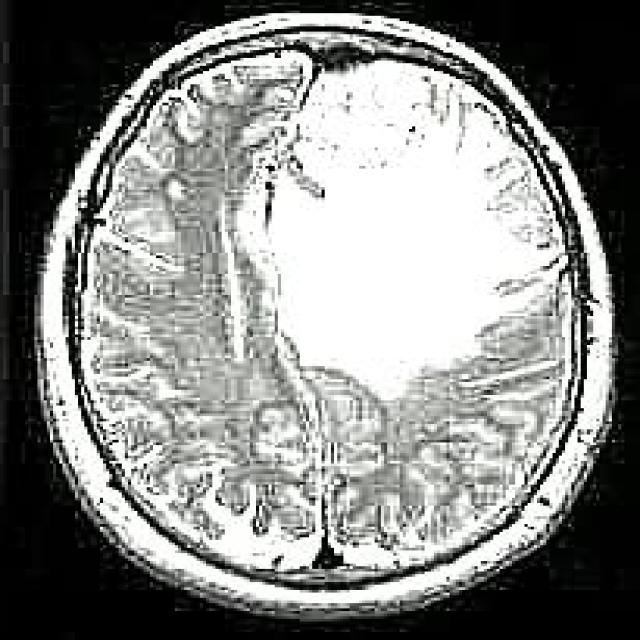Tumor-Cell: (271, 70, 508, 394)
